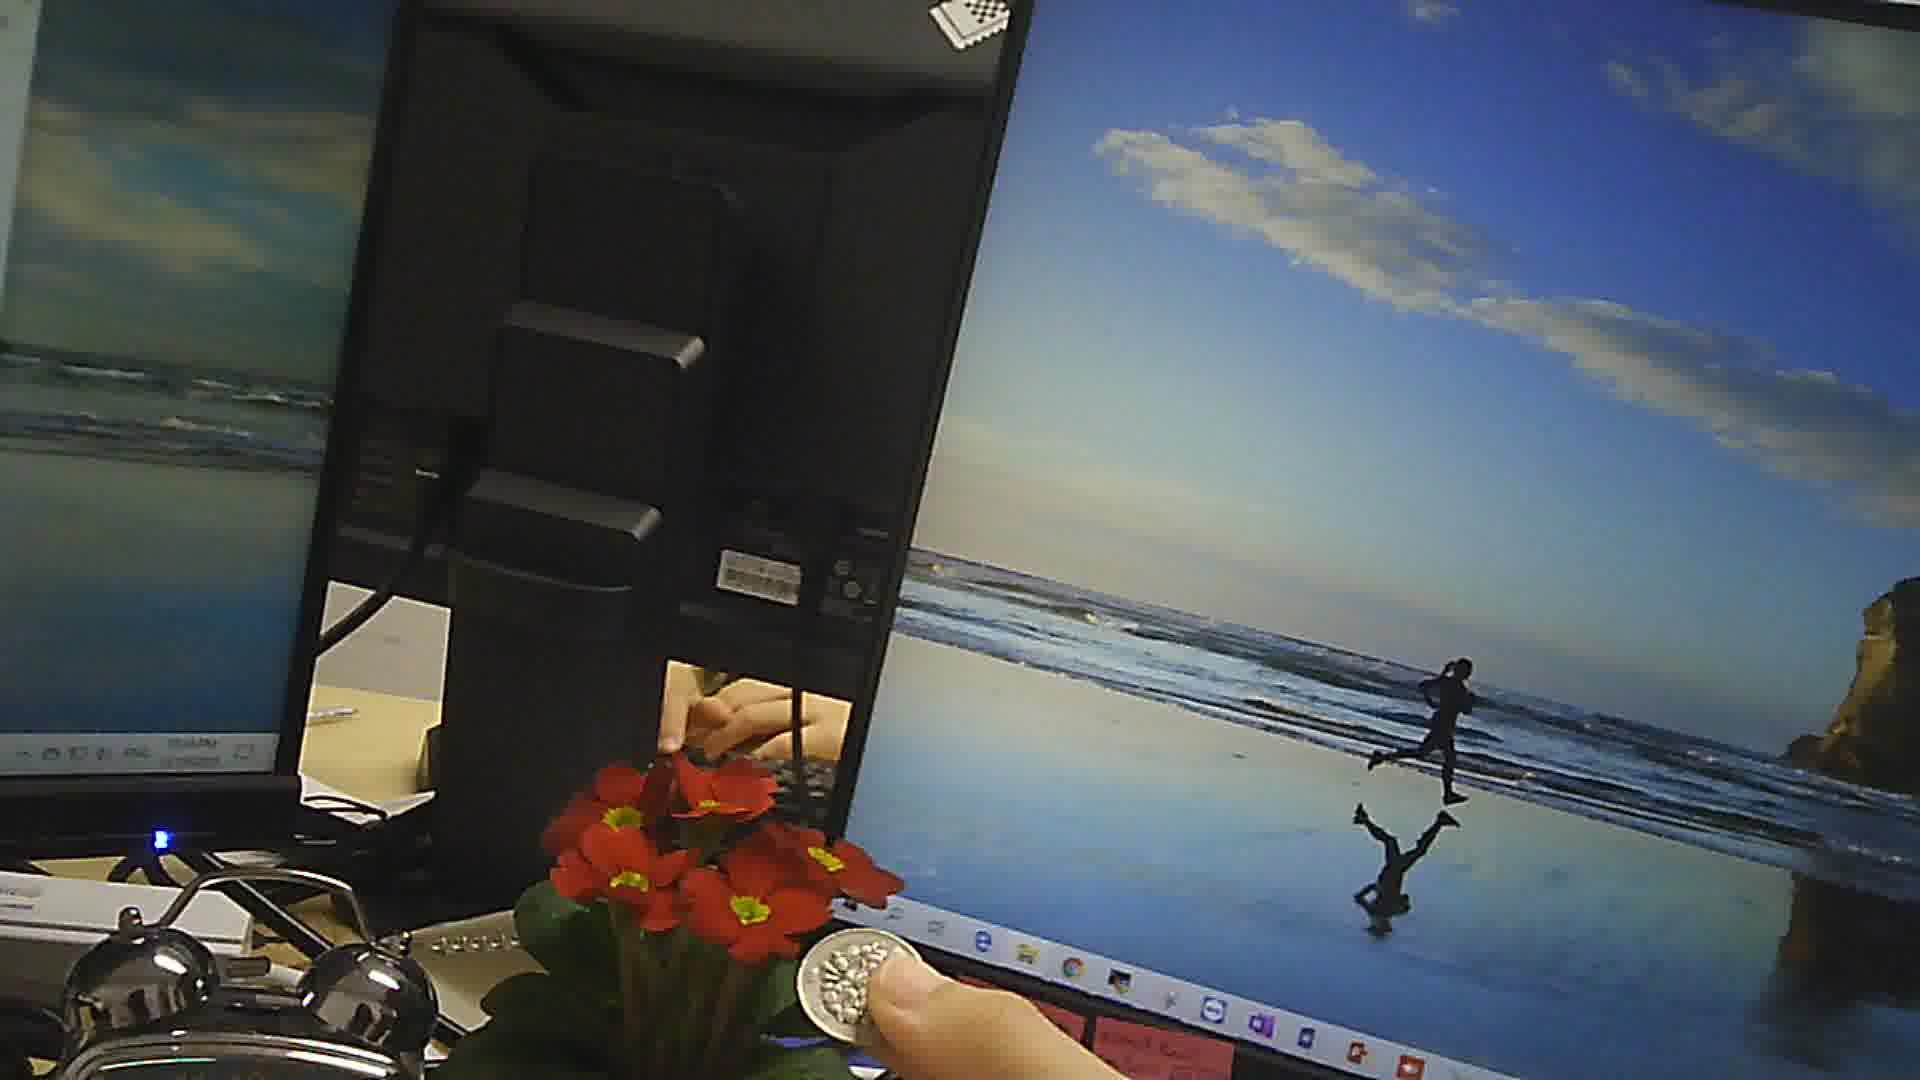100 Yen: (796, 928, 935, 1054)
